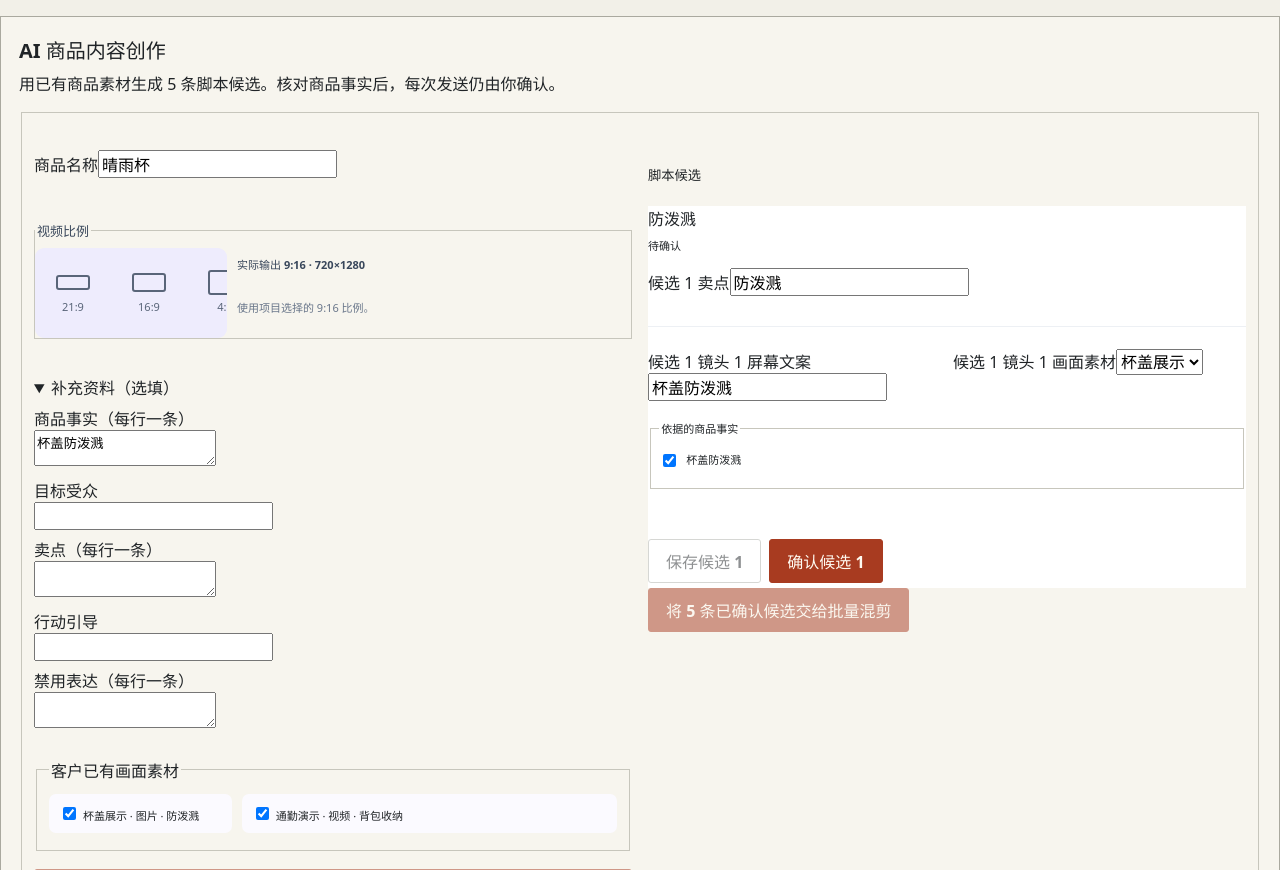
Test: 确认脚本候选成功后通知刷新服务端阶段
Click the button "确认候选 1" at (826, 561), box [769,539,883,583]
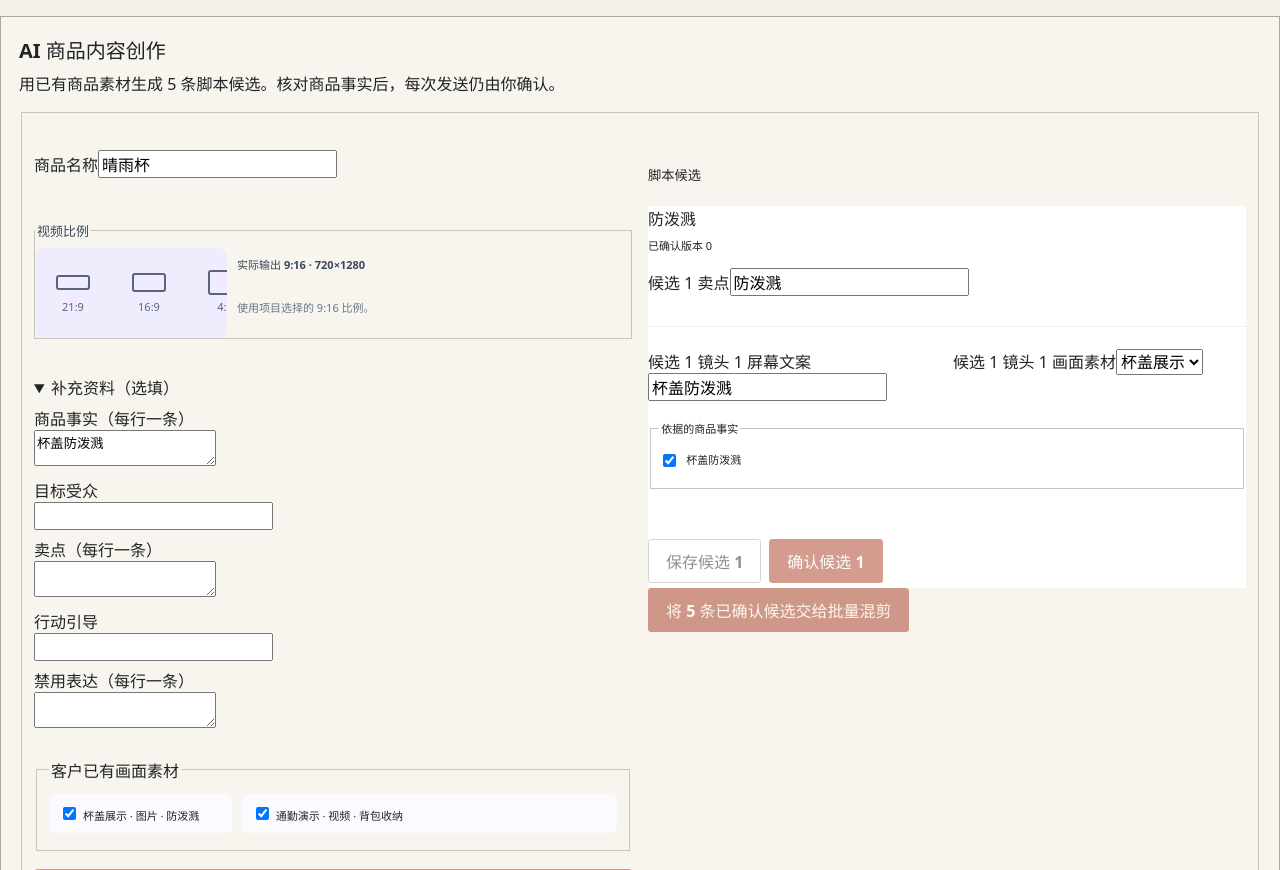
Check: the text "已确认版本 0" is shown, box [648,238,712,253]
